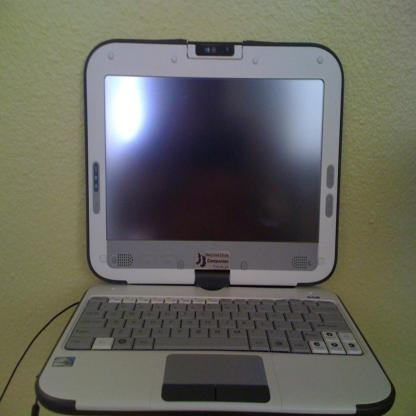board: (34, 38, 396, 416)
